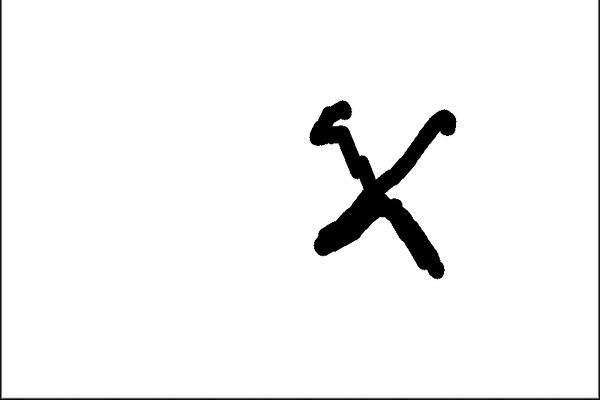X: (278, 89, 485, 311)
